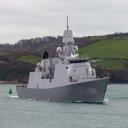Fragata: (17, 16, 111, 105)
